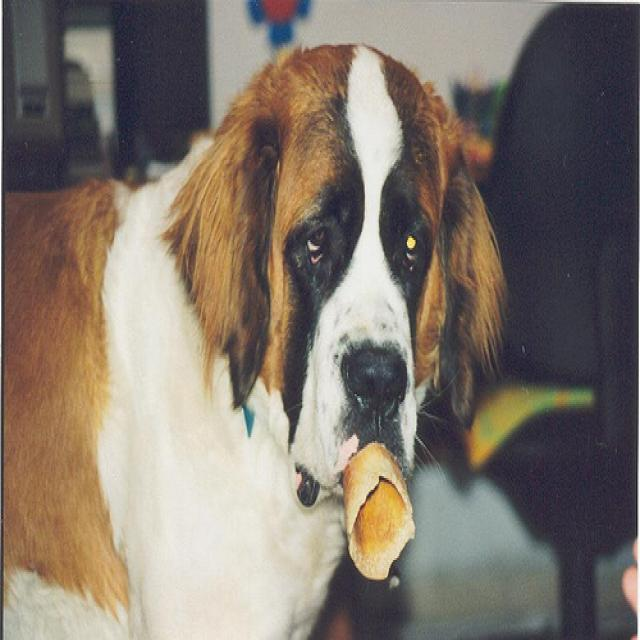dog-saint_bernard: (1, 29, 508, 636)
